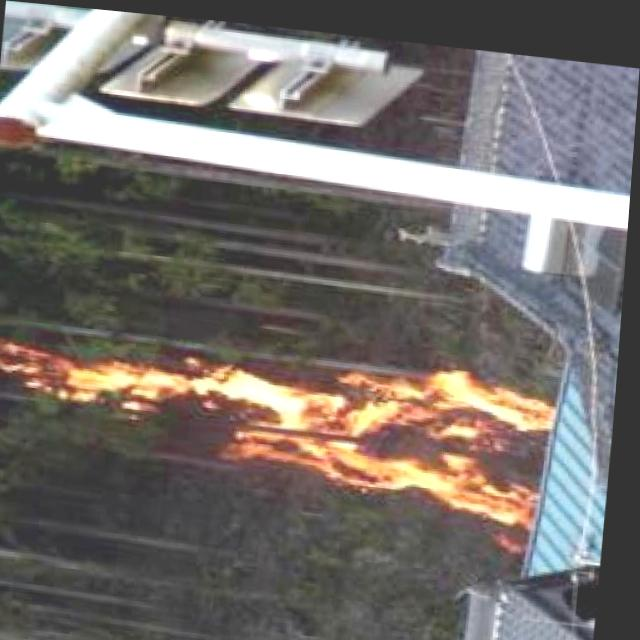Fire: (0, 303, 567, 518)
